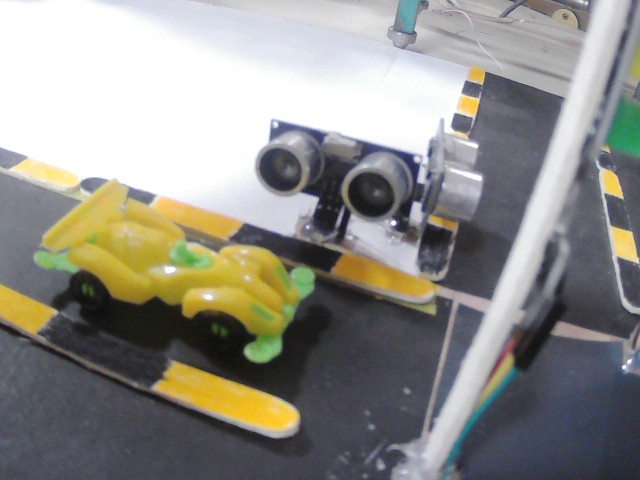car: (34, 181, 330, 366)
uno_breadboard: (261, 112, 443, 226), (429, 121, 491, 240)
